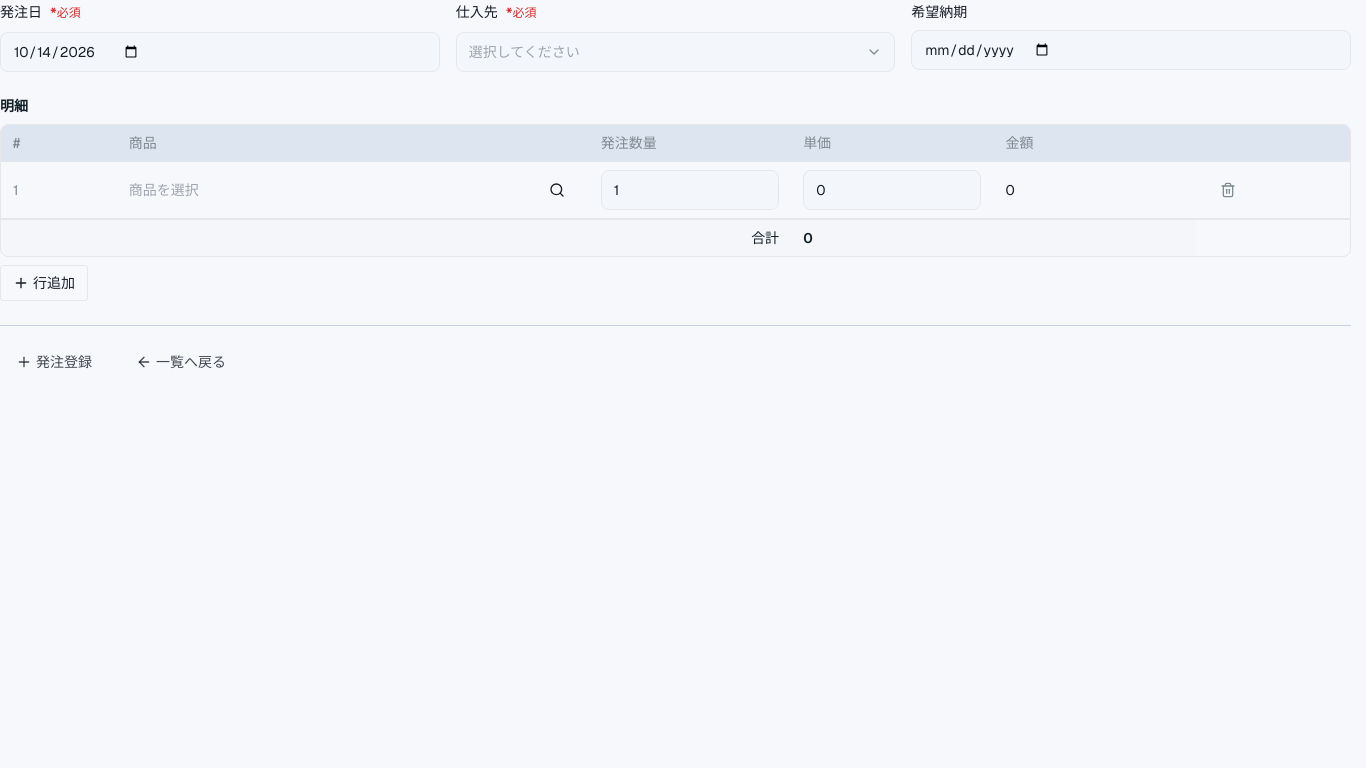
OrderForm - インタラクション › 商品検索ボタンをクリックするとモーダルが開くこと
Click the 2nd button: point(557, 190) [537,172,577,208]
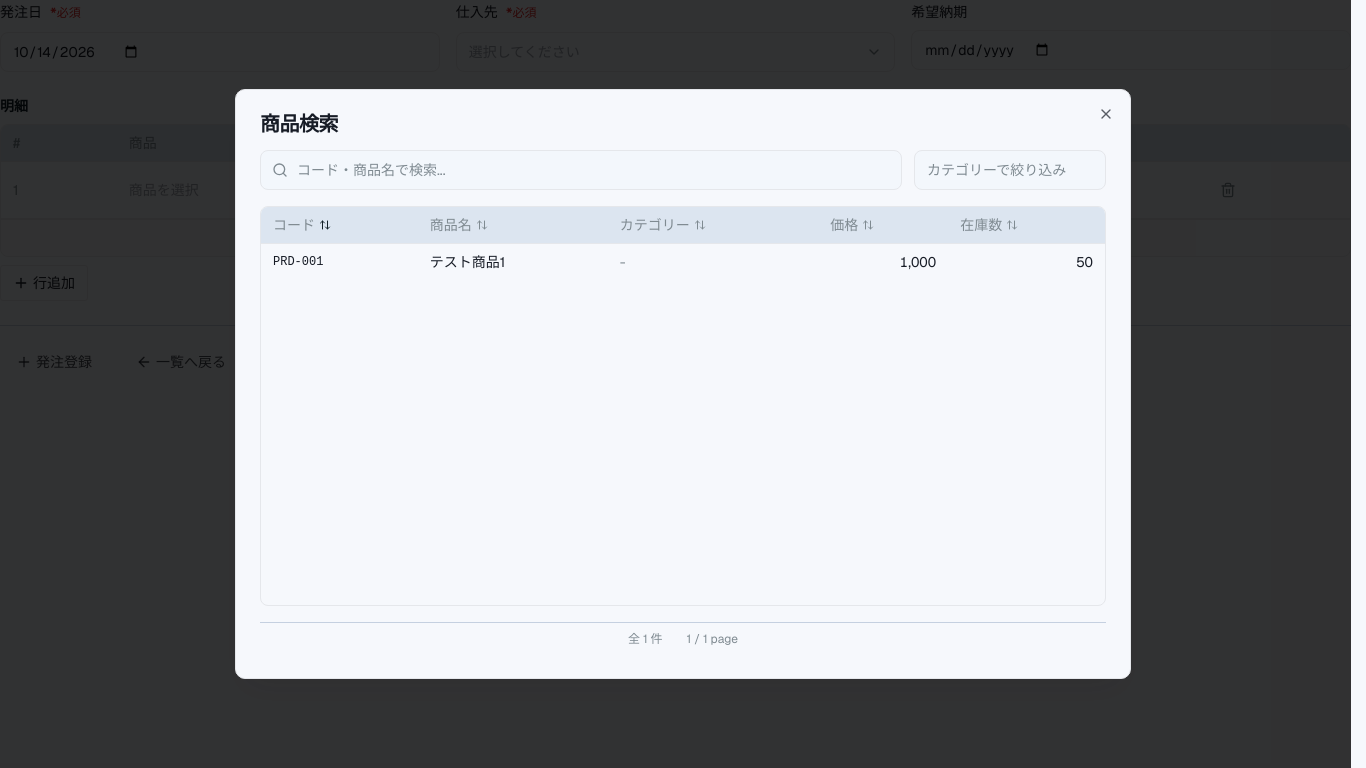
Check: the heading "商品検索" is shown, box [260,111,338,137]
